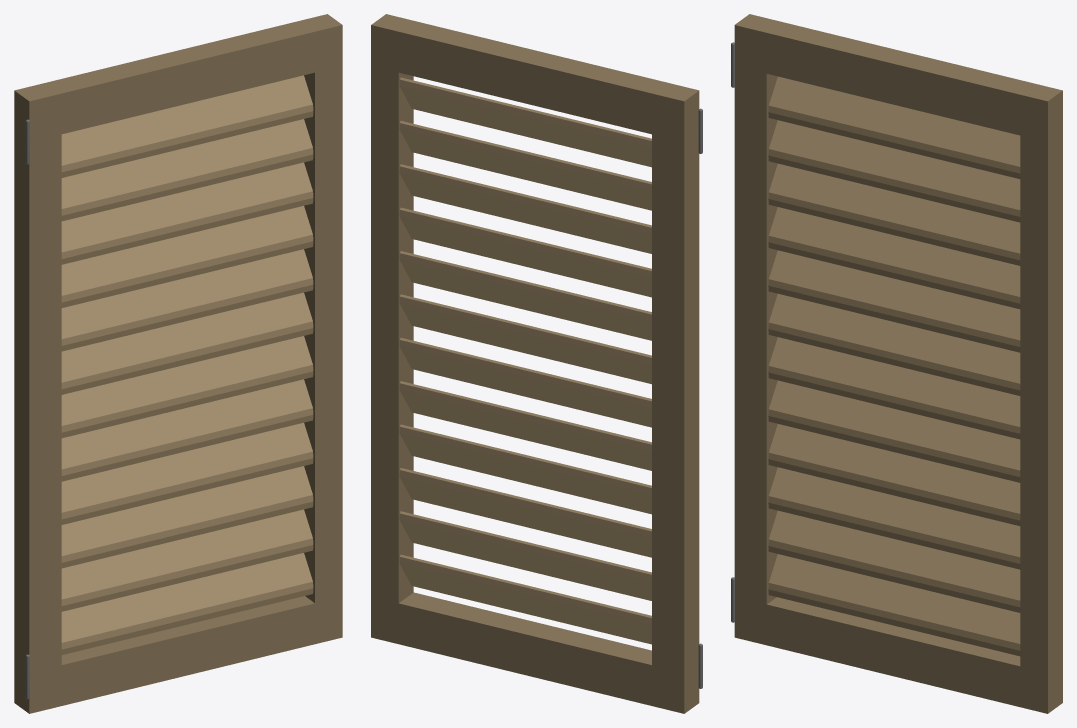
The model's file is BirdhouseDoorR.fbx.
The picture shows the model from 3 angles, left to right: view 1: azimuth 30°, elevation 25°; view 2: azimuth 150°, elevation 25°; view 3: azimuth 330°, elevation 25°; orthographic projection.
Visible parts, largest first — view 1: R; view 2: R; view 3: R.
Part boxes in pixels (x1,y1,x2,y2): R: (14, 14, 342, 713); R: (371, 14, 702, 713); R: (731, 14, 1062, 713).
Bounding box in the file's own units: 199 × 368 × 17.41.
